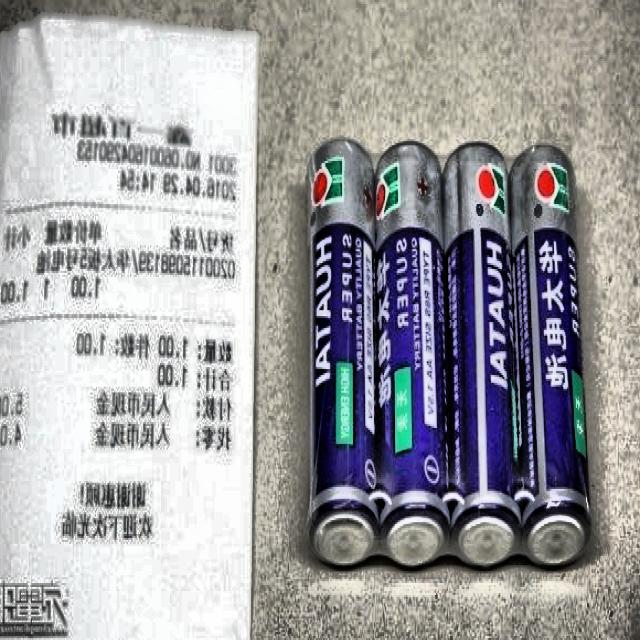Non-Valuable Waste - Batteries: (510, 146, 591, 564), (442, 144, 520, 564), (375, 142, 450, 566), (307, 139, 379, 564)
